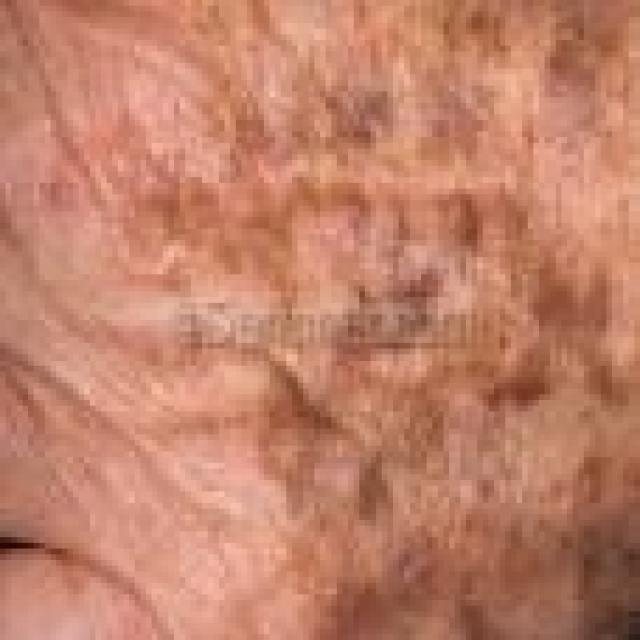Melasma: (151, 108, 640, 640)
